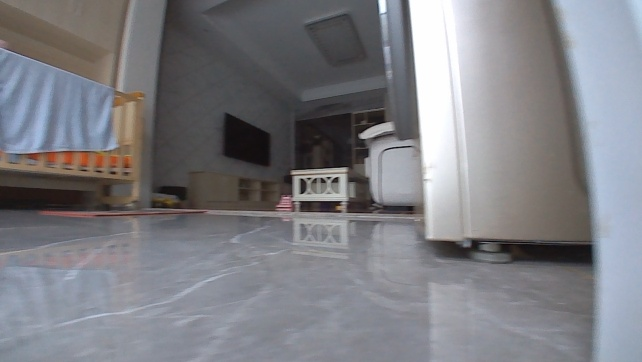TV_stand1: (182, 168, 283, 207)
blanket: (33, 205, 214, 218)
tea_table: (287, 164, 374, 210)
washing_machine1: (378, 0, 589, 266)
